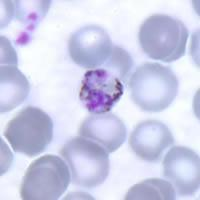Infected: (78, 66, 124, 114)
Uninfected: (129, 62, 178, 112), (61, 138, 109, 188), (3, 108, 51, 157), (67, 25, 113, 69), (164, 144, 200, 196), (139, 12, 178, 58), (80, 112, 126, 150), (32, 153, 72, 190), (132, 122, 172, 159), (0, 63, 29, 113), (22, 168, 60, 200), (163, 20, 190, 59)
